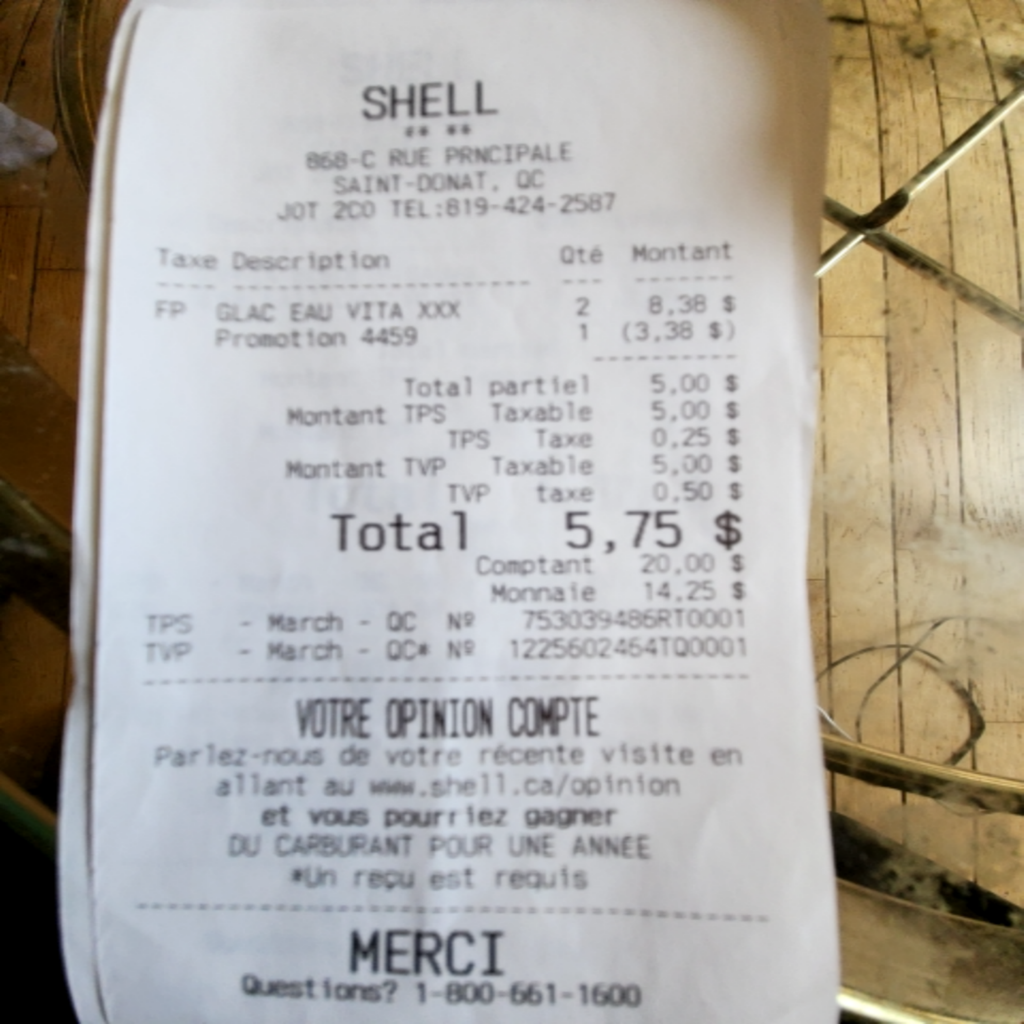recipt: (57, 0, 839, 1009)
